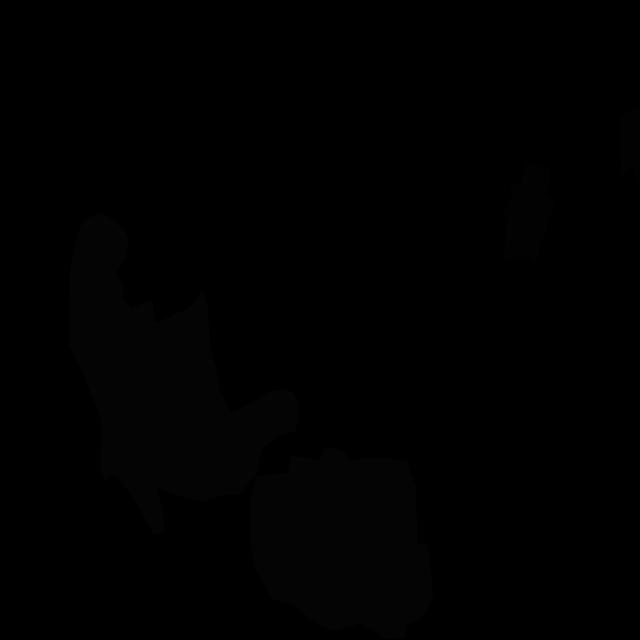cardboard: (504, 162, 556, 262), (620, 105, 640, 188)
soft_plastic: (69, 212, 299, 534), (250, 447, 433, 639)
